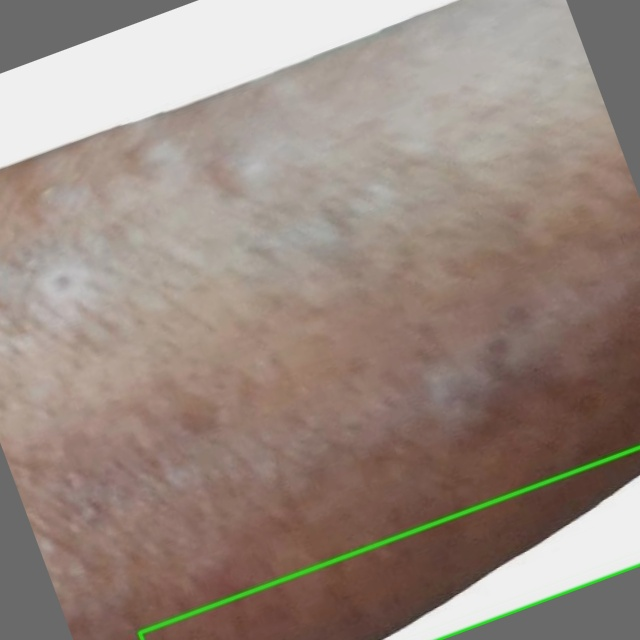Tinea Corporis: (139, 447, 639, 639)
